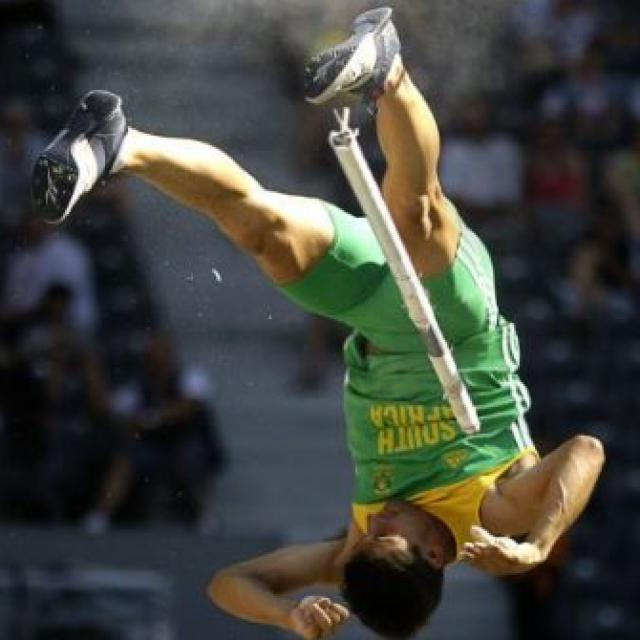fall: (33, 7, 612, 638)
